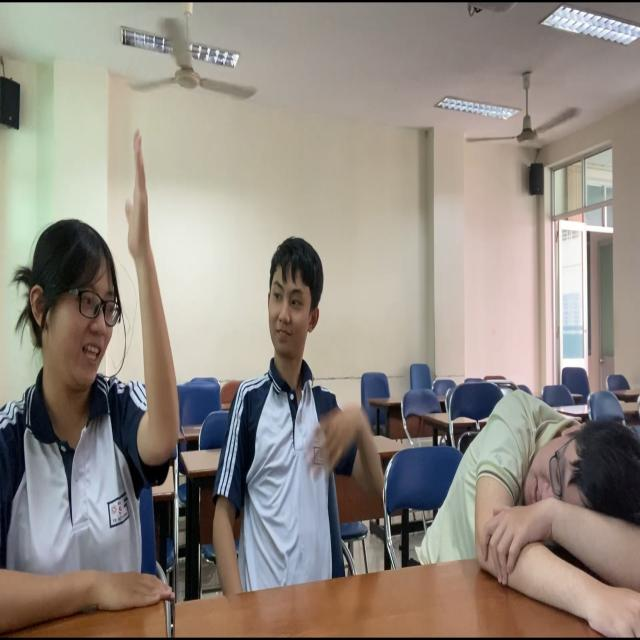raise_hand: (1, 108, 174, 640)
sleep: (421, 370, 640, 640)
